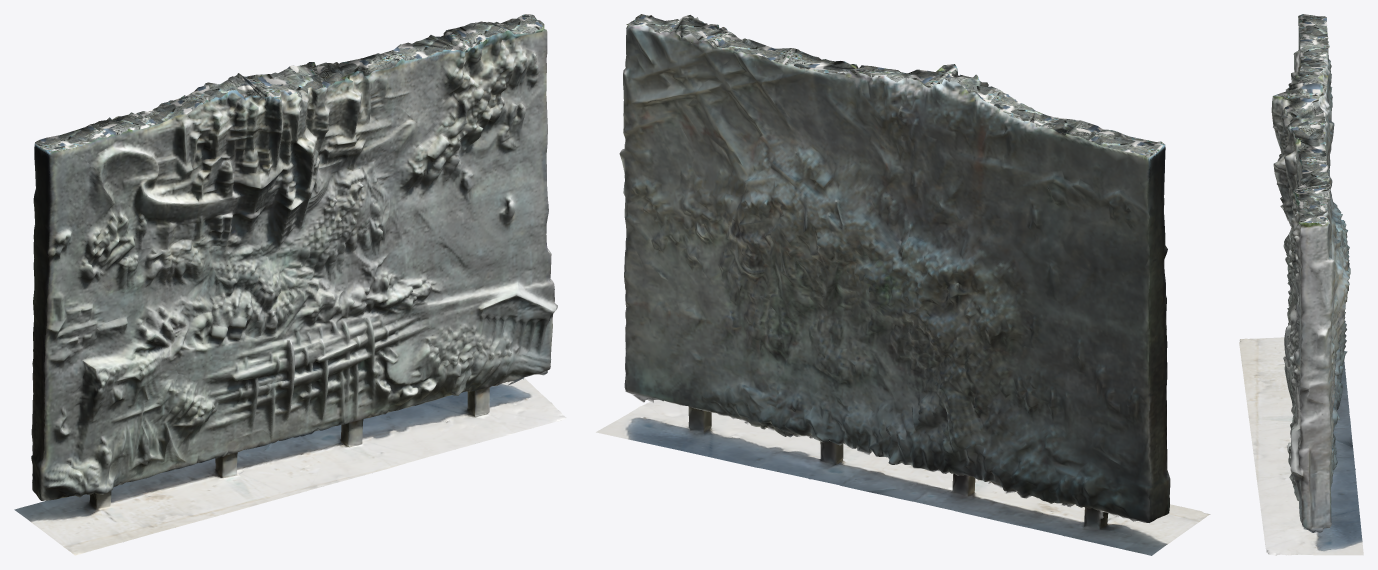
3 views of the same model, side by side, from view 1: azimuth 30°, elevation 25°; view 2: azimuth 150°, elevation 25°; view 3: azimuth 270°, elevation 25° (orthographic). The views are drawn at different scales.
Parts seen in each view (by area): view 1: spanishdenkmal-02.512.50k; view 2: spanishdenkmal-02.512.50k; view 3: spanishdenkmal-02.512.50k.
Part boxes in pixels (x1=…): spanishdenkmal-02.512.50k: x1=14, y1=14, x2=566, y2=555; spanishdenkmal-02.512.50k: x1=596, y1=14, x2=1210, y2=555; spanishdenkmal-02.512.50k: x1=1239, y1=14, x2=1363, y2=555.
Bounding box in the file's own units: 4.26 × 3.12 × 1.01.
Materials: 1 (1 with a texture image).
